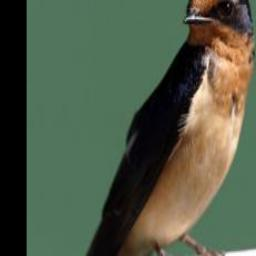Swallow: (80, 0, 253, 256)
